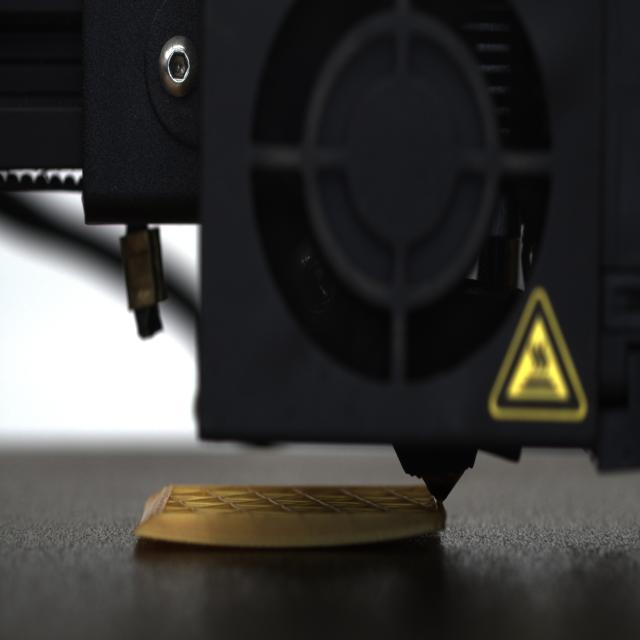Warping: (352, 520, 447, 553), (127, 525, 210, 552)
